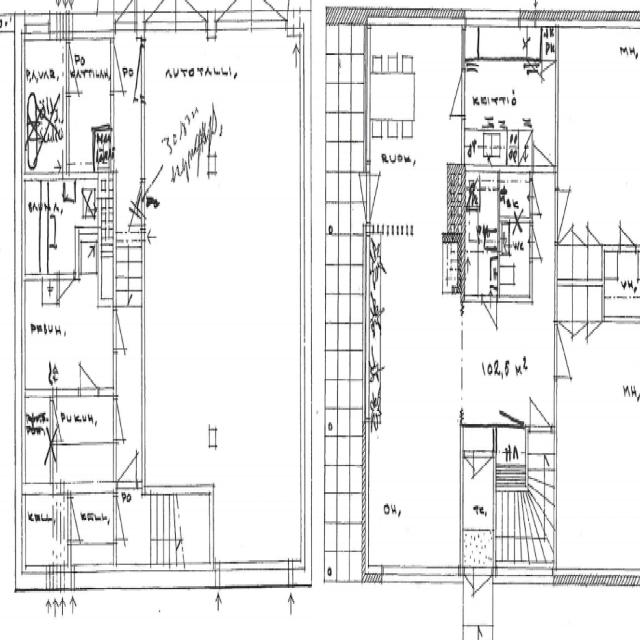door: (116, 40, 145, 98), (342, 171, 371, 222), (363, 172, 392, 222), (110, 41, 136, 94), (555, 324, 580, 376), (555, 189, 580, 241), (500, 376, 522, 434), (66, 43, 91, 94), (473, 567, 492, 630), (530, 378, 551, 433), (534, 117, 554, 173), (440, 70, 463, 116), (215, 0, 252, 28), (114, 495, 136, 542), (252, 0, 288, 28), (79, 343, 98, 396), (118, 433, 137, 485), (122, 182, 144, 224), (69, 498, 90, 542), (146, 0, 177, 28), (177, 0, 207, 28), (474, 451, 491, 500), (114, 399, 134, 439), (114, 312, 133, 350), (620, 209, 635, 252), (481, 296, 496, 339), (59, 271, 74, 313), (115, 0, 137, 28), (530, 227, 546, 258), (464, 567, 473, 607), (464, 451, 474, 479)
